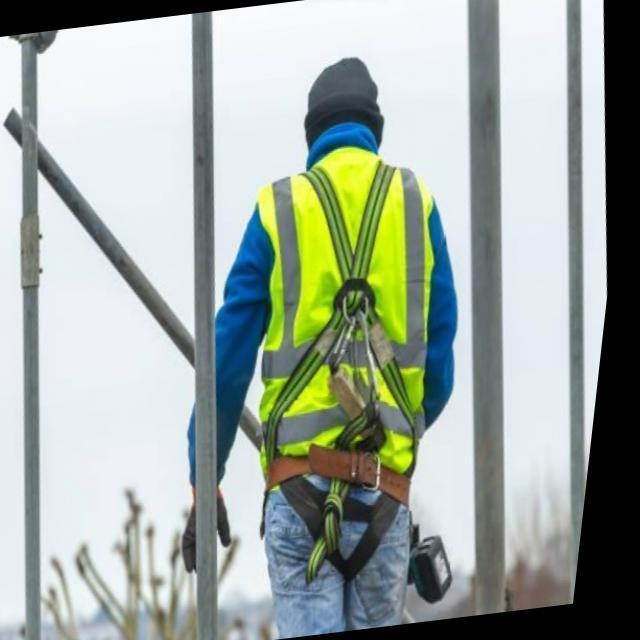Arnes_seguridad: (263, 160, 427, 515)
